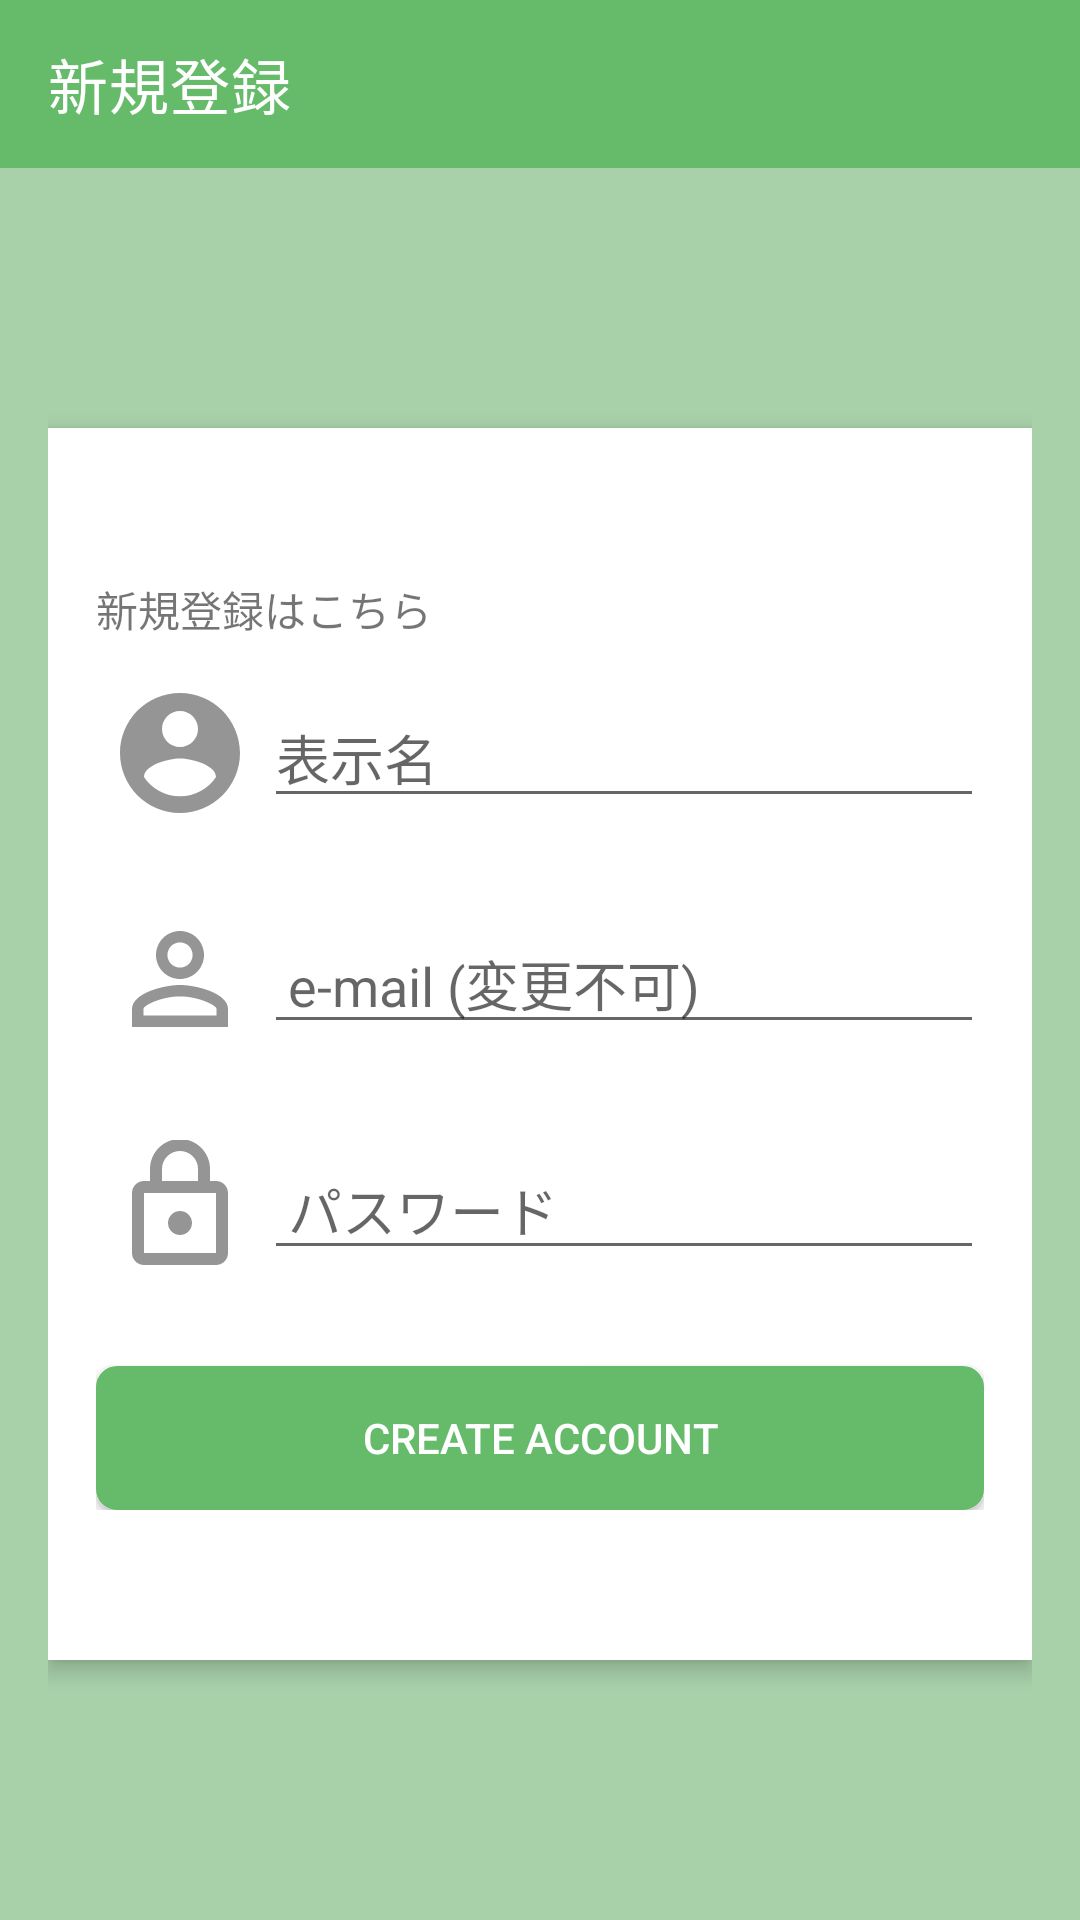

Named icons in this screenshot (1080w x 1920h) and their centers, point (x, y):
account circle: point (180, 753)
perm identity: point (180, 979)
鍵の画像: point (180, 1202)
